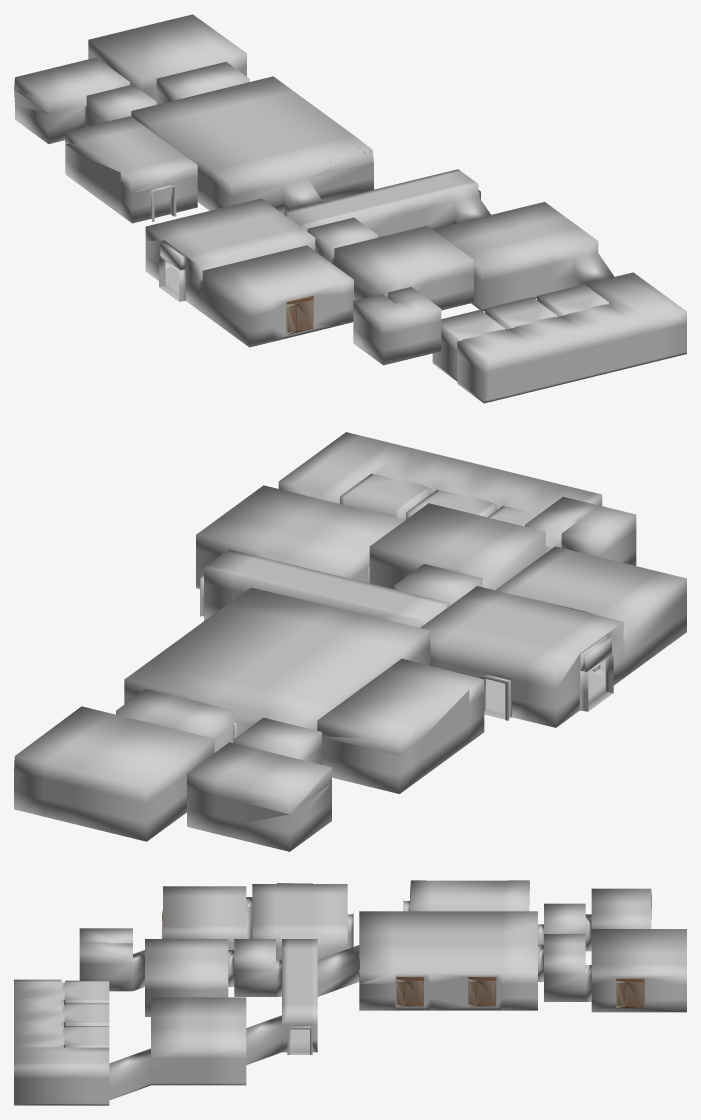
Rendered from police.fbx.
The picture shows the model from 3 angles, top to bottom: view 1: azimuth 30°, elevation 25°; view 2: azimuth 150°, elevation 25°; view 3: azimuth 270°, elevation 25°; orthographic projection. The views are drawn at different scales.
Visible parts, largest first — view 1: int_ppol, mp_sfpd_win2.004; view 2: int_ppol; view 3: int_ppol, mp_sfpd_win2.001, mp_sfpd_win2.000, mp_sfpd_win2.003.
Boxes of the visible parts, left/top/right/bottom form: int_ppol: left=14, top=14, right=686, bottom=403; mp_sfpd_win2.004: left=286, top=295, right=313, bottom=335; int_ppol: left=14, top=432, right=686, bottom=851; int_ppol: left=14, top=880, right=686, bottom=1105; mp_sfpd_win2.001: left=468, top=977, right=496, bottom=1006; mp_sfpd_win2.000: left=616, top=978, right=644, bottom=1007; mp_sfpd_win2.003: left=396, top=977, right=423, bottom=1006.
Size of the model in its own units: 3102 by 750 by 5650.
